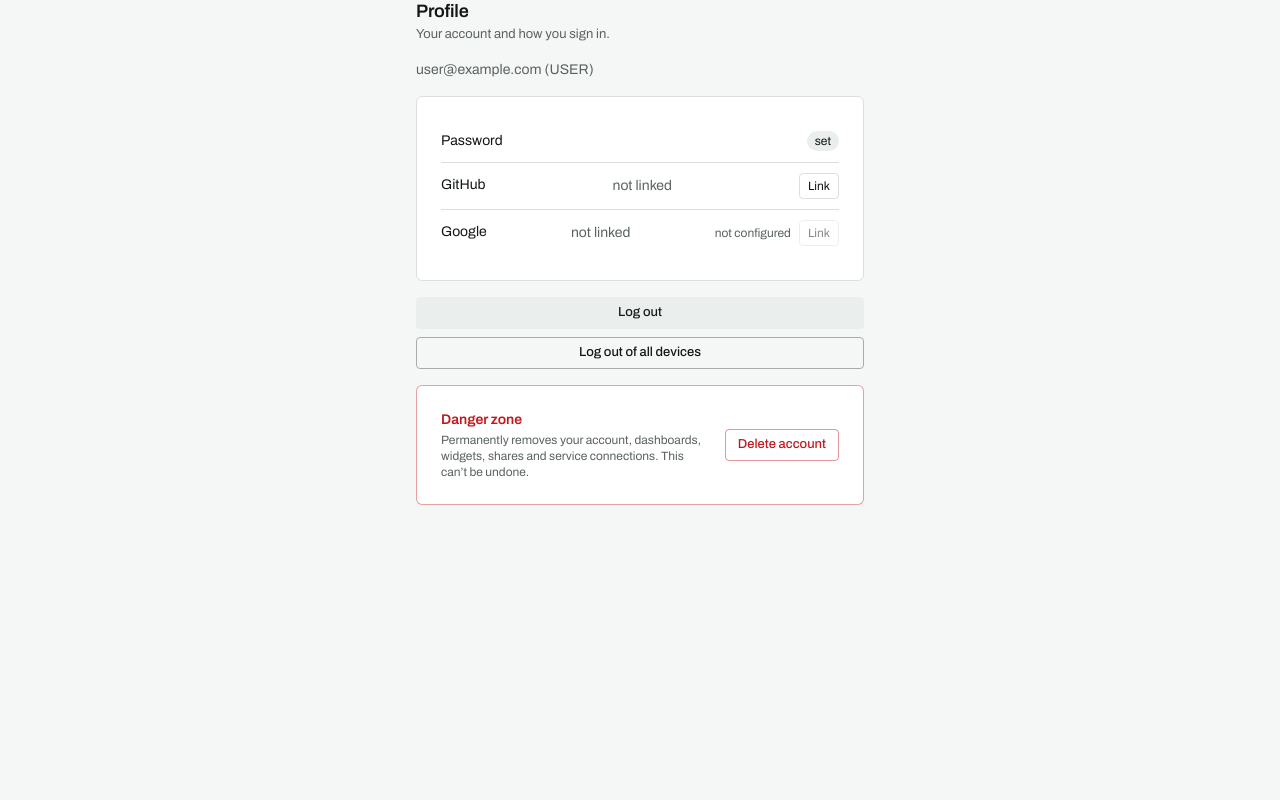
Test: ProfilePage › delete account › opens a dialog and cancelling does not delete
Step 1. Click the button "Delete account" → point(782, 444), box x1=725 y1=428 x2=839 y2=460
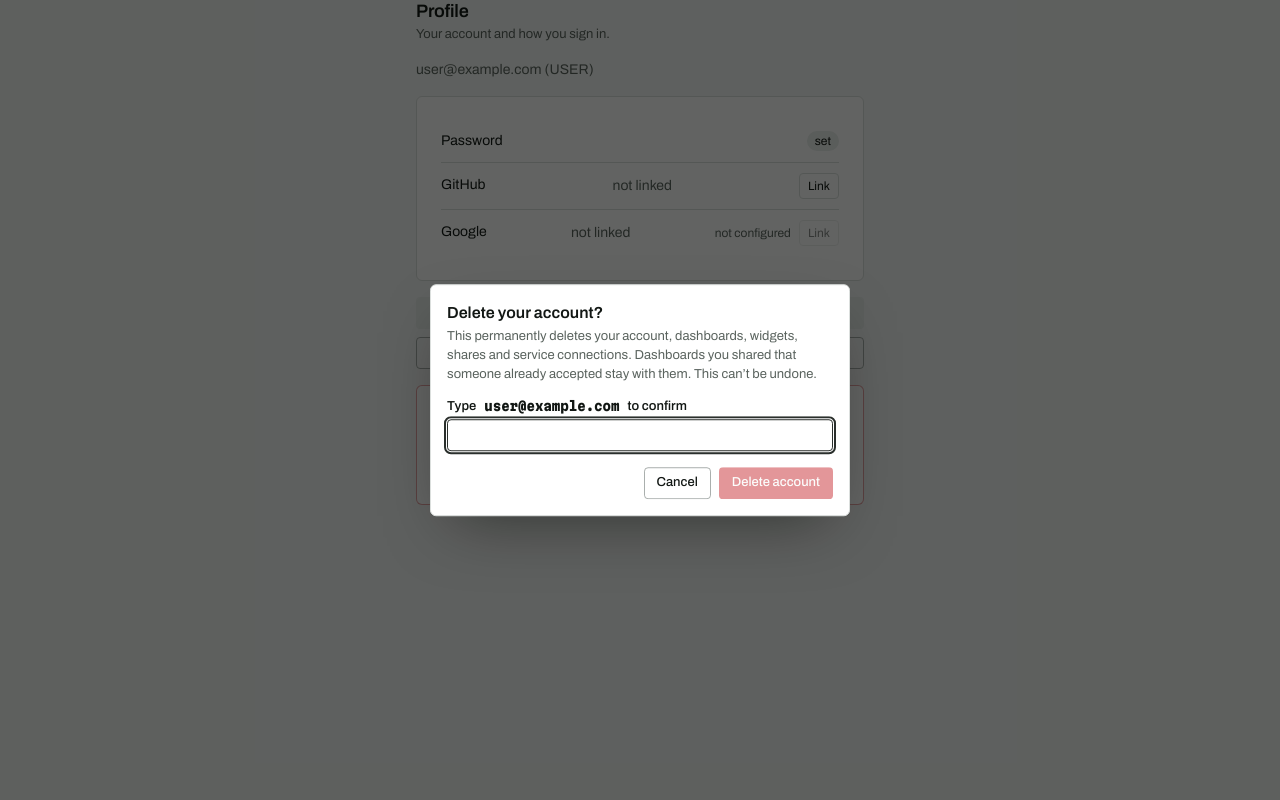
Check: the dialog is shown, box x1=430 y1=284 x2=850 y2=516
Step 2. Click the button "Cancel" → point(677, 483), box x1=644 y1=467 x2=711 y2=499
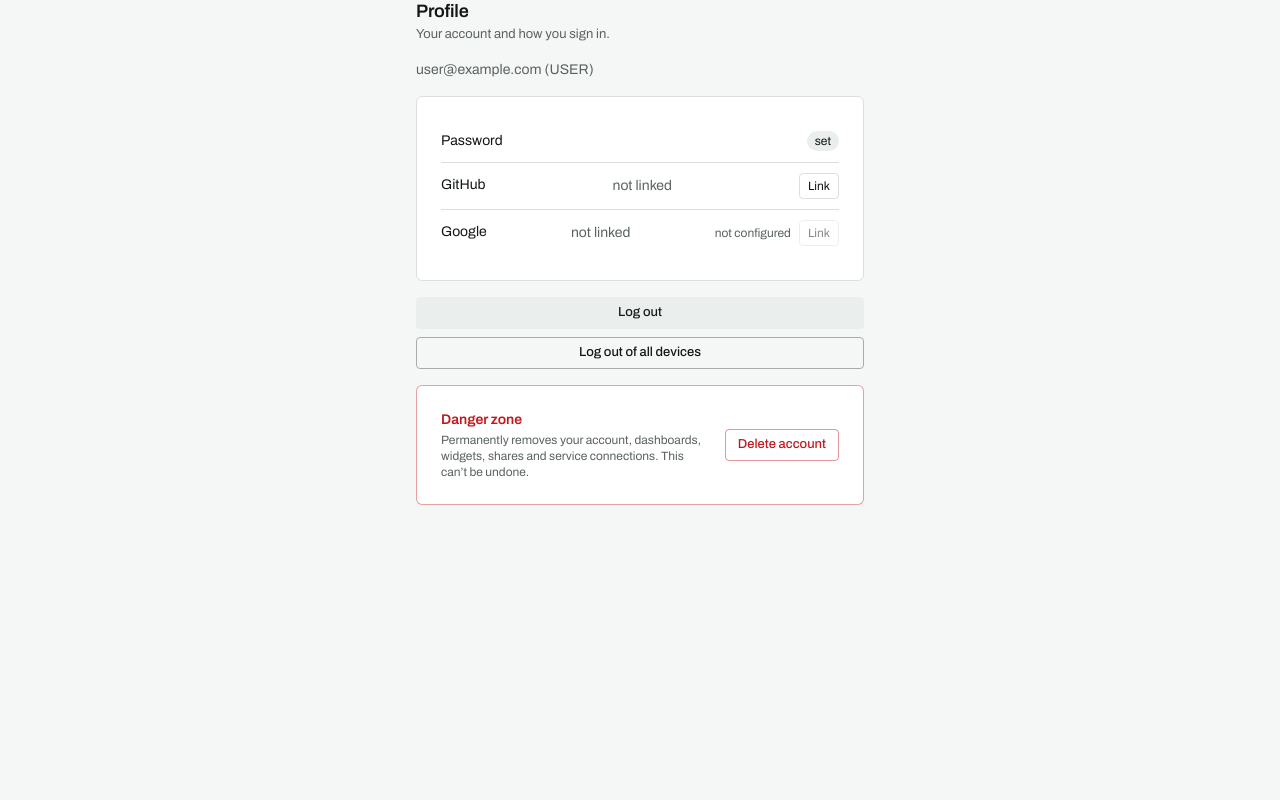
Check: the dialog is gone
